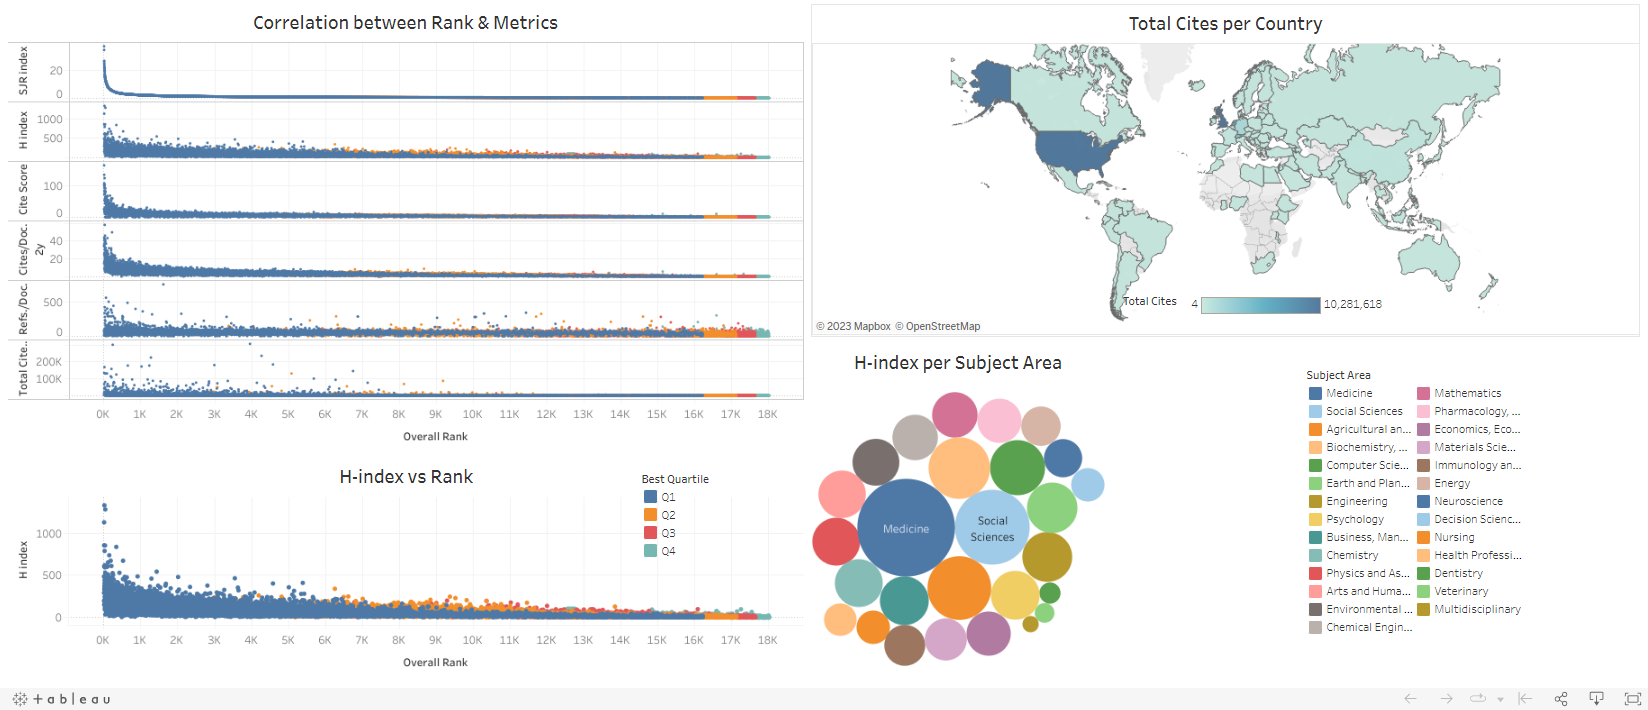

Layout of this report page (visuals, bound fields, positions):
{"tool":"tableau","page":{"name":"Dashboard 1","canvas":[1000,1000],"units":"permille","ordinal":0},"visuals":[{"type":"worksheet","title":"Correlation","mark":"Automatic","rows":["SJR index","H index","CiteScore","Cites/Doc. 2y","Refs./Doc.","Total Cites 3y"],"cols":["Overall Rank"],"box":[4.8,10.3,485.5,655.5]},{"type":"worksheet","title":"Map","mark":"Multipolygon","box":[490.3,10.3,504.8,489.7]},{"type":"legend","title":"Map","param":"[federated.0otpkk91r1r2ki117xu301yf1k40].[sum:Total Cites 3y:qk]","box":[680.5,433,159.7,45.8]},{"type":"worksheet","title":"Subjects","mark":"Circle","box":[490.3,500,504.8,489.7]},{"type":"legend","title":"Subjects","param":"[federated.0otpkk91r1r2ki117xu301yf1k40].[none:Subject Area:nk]","box":[791.7,539.1,165.6,395.1]},{"type":"worksheet","title":"H-index","mark":"Automatic","rows":["H index"],"cols":["Overall Rank"],"box":[4.8,665.8,485.5,323.9]},{"type":"legend","title":"Correlation","param":"[federated.0otpkk91r1r2ki117xu301yf1k40].[none:Best Quartile:nk]","box":[389.7,688.6,57.3,126.1]}]}

Visuals, with their boxes on the dashboard's canvas, which has no fixed pixel size, in thousandths of its width and height (x1, y1, x2, y2). These are canvas units, not pixel positions in the 1648x710 screenshot, which may show the page scaled, cropped or inside an application window:
"Correlation" worksheet: (x1=5, y1=10, x2=490, y2=666)
"Map" worksheet (Multipolygon marks): (x1=490, y1=10, x2=995, y2=500)
"Map" legend: (x1=680, y1=433, x2=840, y2=479)
"Subjects" worksheet (Circle marks): (x1=490, y1=500, x2=995, y2=990)
"Subjects" legend: (x1=792, y1=539, x2=957, y2=934)
"H-index" worksheet: (x1=5, y1=666, x2=490, y2=990)
"Correlation" legend: (x1=390, y1=689, x2=447, y2=815)
